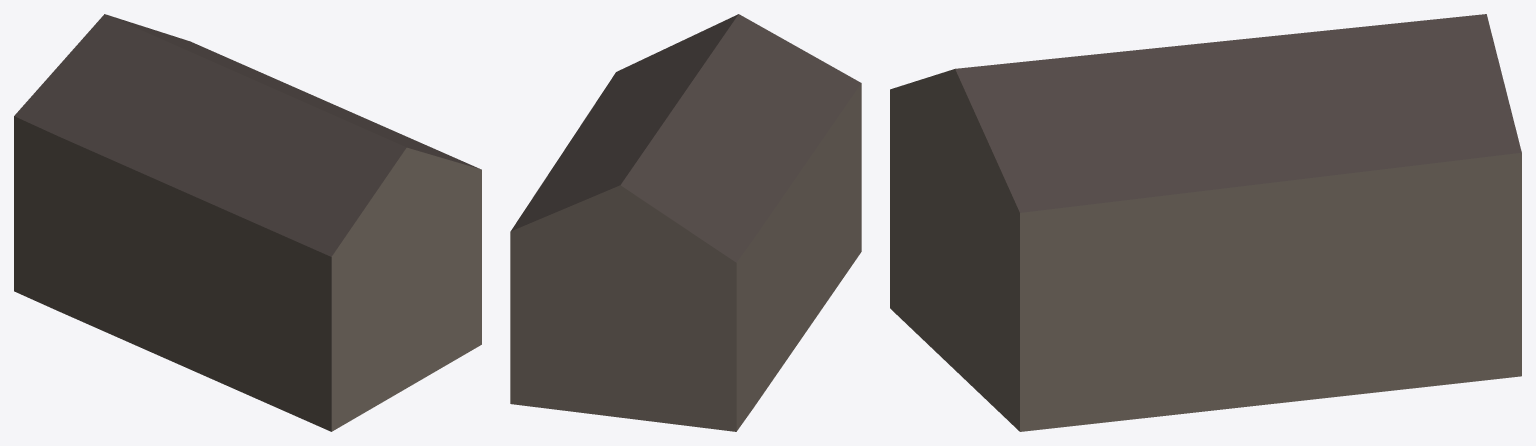
3 views of the same model, side by side, from view 1: azimuth 30°, elevation 25°; view 2: azimuth 150°, elevation 25°; view 3: azimuth 270°, elevation 25° (orthographic). The views are drawn at different scales.
Parts seen in each view (by area): view 1: HP-w1198667814; view 2: HP-w1198667814; view 3: HP-w1198667814.
Boxes of the visible parts, box(x1,y1,x2,y2) form: HP-w1198667814: box(14, 14, 481, 431); HP-w1198667814: box(510, 14, 861, 431); HP-w1198667814: box(890, 14, 1521, 431).
Size of the model in its own units: 10.63 by 8.26 by 15.69.
